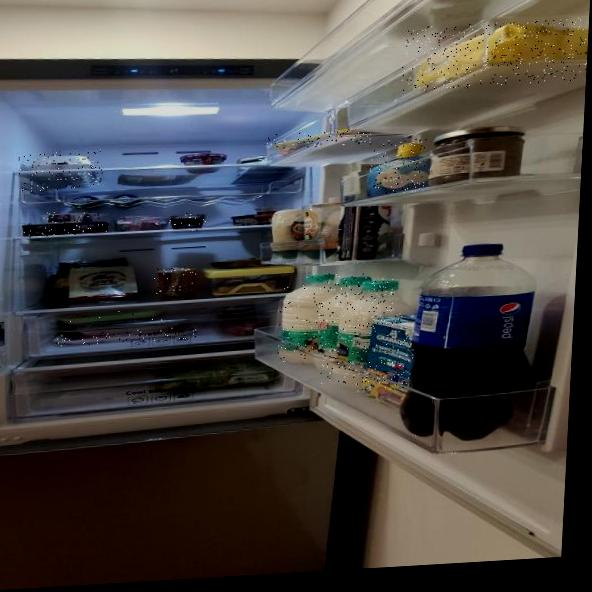butter: (401, 17, 589, 91), (266, 128, 371, 150)
cheese: (153, 267, 197, 299)
eggs: (17, 149, 104, 192)
lemon: (368, 138, 428, 196)
meat: (56, 326, 198, 347), (56, 308, 168, 327)
milk: (318, 273, 371, 387), (339, 278, 395, 377), (277, 272, 333, 365), (357, 312, 416, 391)
yoghurt: (20, 221, 109, 238), (42, 210, 103, 225), (168, 212, 206, 232)
